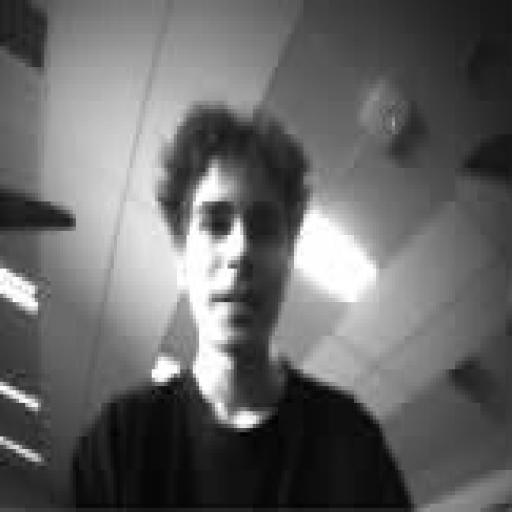human: (73, 105, 410, 507)
